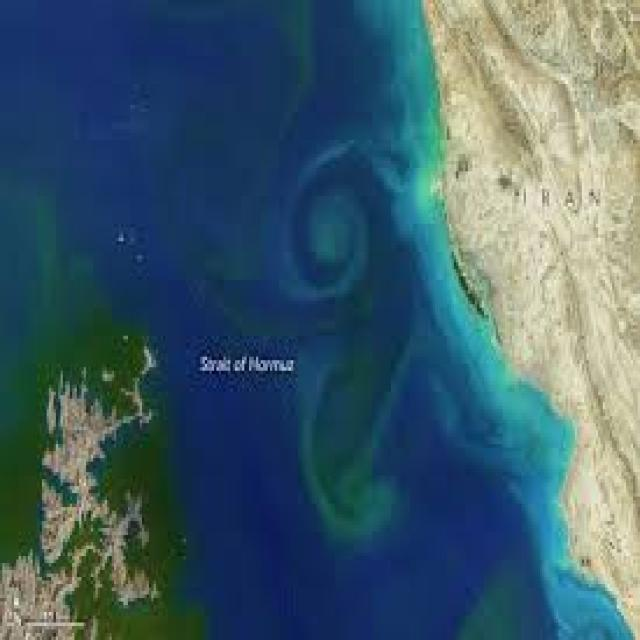algal: (185, 3, 417, 563), (0, 182, 207, 633)
